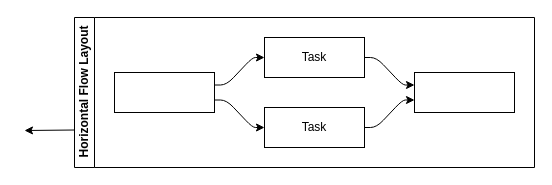
Some shapes in this 552 by 185 pixel diagram are drawn without their labels. Here are the shapes that lost their labels. From the top down, the centre of each, then its label:
At pixel 164 92: "Start".
At pixel 464 92: "End".
